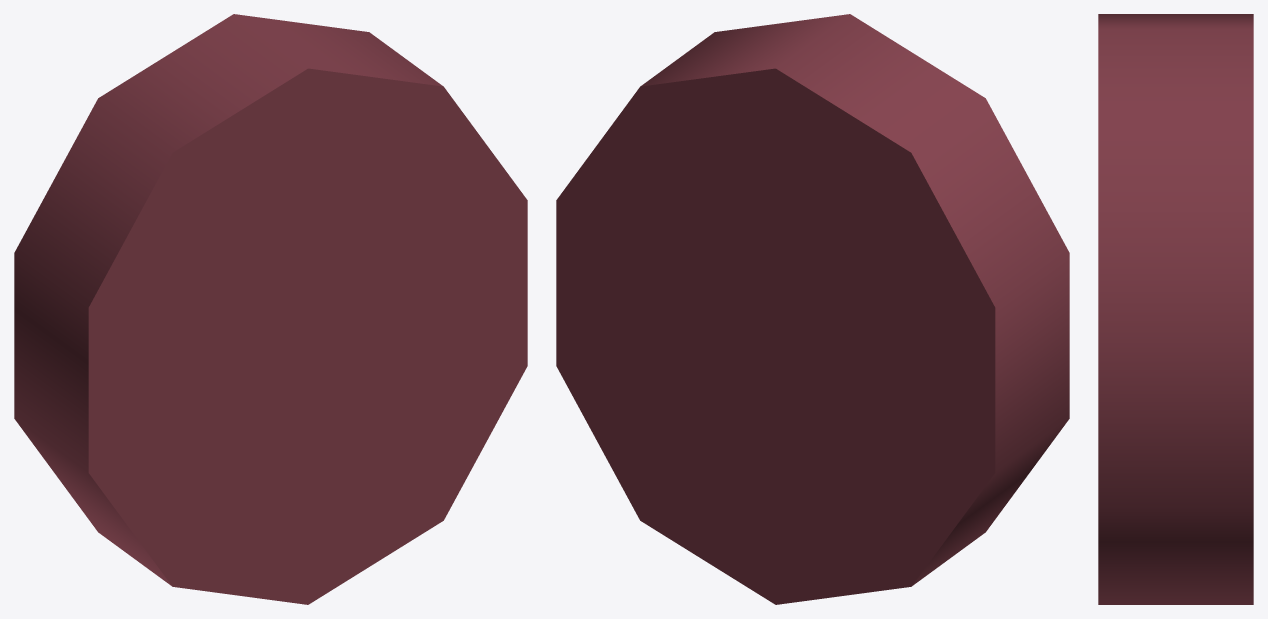
File: CharMouthO.fbx
The picture shows the model from 3 angles, left to right: view 1: azimuth 30°, elevation 25°; view 2: azimuth 150°, elevation 25°; view 3: azimuth 270°, elevation 25°; orthographic projection. The views are drawn at different scales.
Visible parts, largest first — view 1: CharMouthO; view 2: CharMouthO; view 3: CharMouthO.
Part boxes in pixels (x1,y1,x2,y2): CharMouthO: (14,14,527,604); CharMouthO: (556,14,1069,604); CharMouthO: (1098,14,1253,604).
Size of the model in its own units: 0.0548 by 0.064 by 0.0161.
